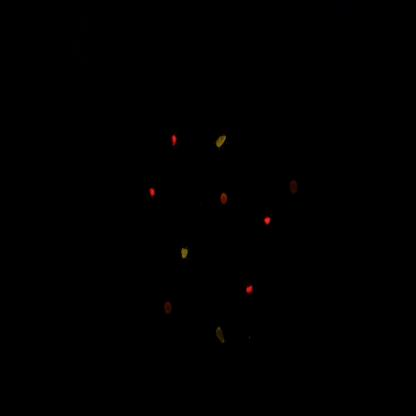PET: (245, 277, 260, 302), (169, 127, 181, 154), (145, 181, 158, 205), (262, 211, 276, 232)
PP: (211, 317, 231, 354), (212, 126, 234, 157), (177, 237, 193, 267)
PS: (161, 293, 179, 325), (285, 171, 304, 200), (218, 185, 232, 211)
